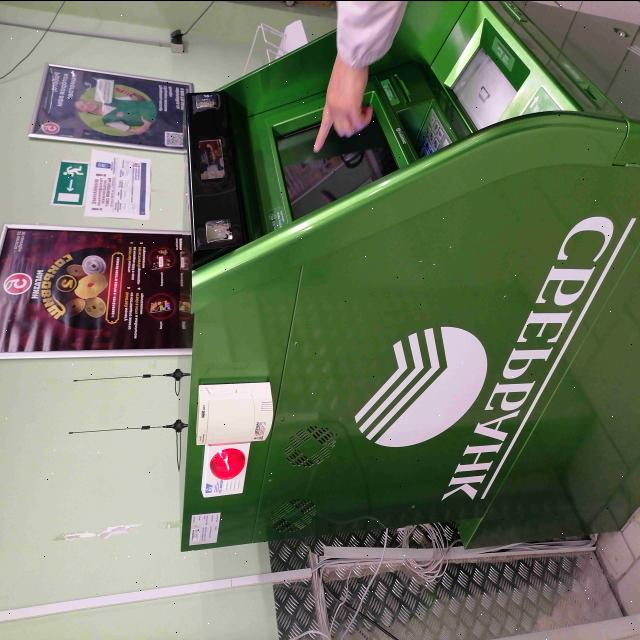bank: (178, 0, 640, 550)
